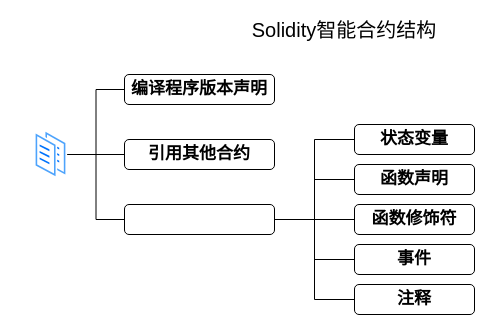
Image size: 492x332. Some labels were removed from this diagram. Each missing label, with the box of its shape:
合约主体: (124, 204, 274, 234)
智能合约: (34, 129, 67, 179)
